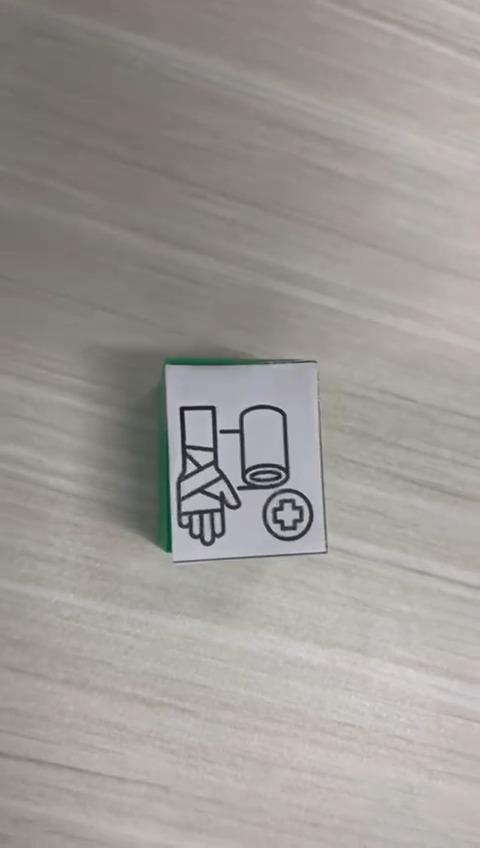Bandages: (157, 360, 329, 563)
